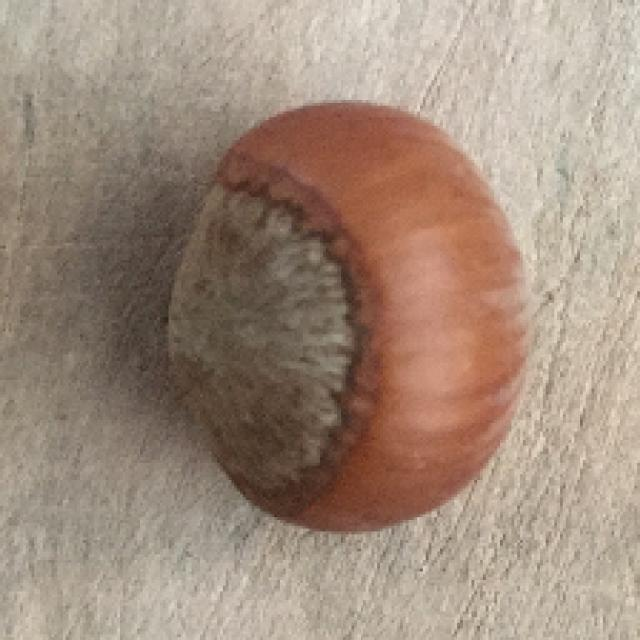qualityHazelnut: (156, 98, 534, 532)
